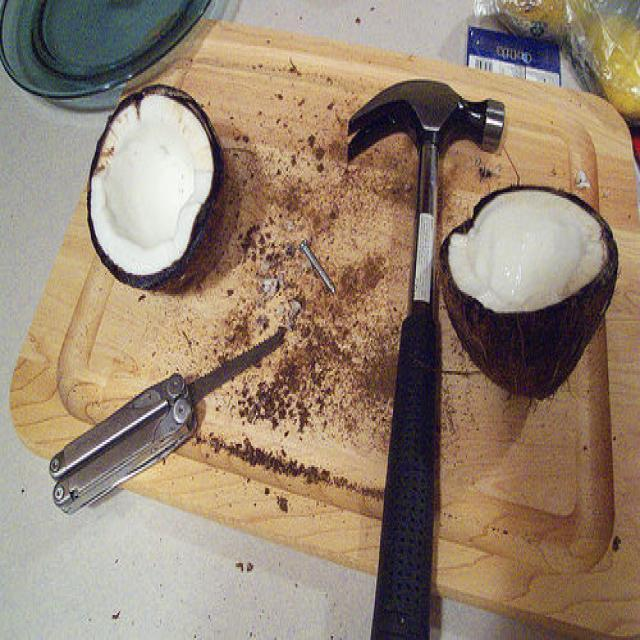hammer: (332, 63, 516, 640)
